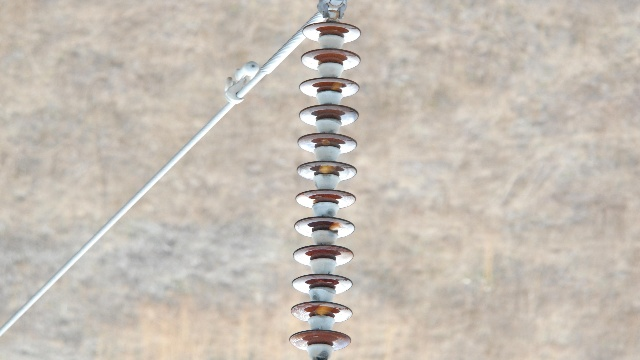insulator_unspecified: (290, 23, 360, 351)
pollution_flashover_local: (316, 302, 335, 317), (317, 162, 338, 173), (330, 220, 346, 234), (318, 137, 333, 147), (331, 80, 343, 92)
